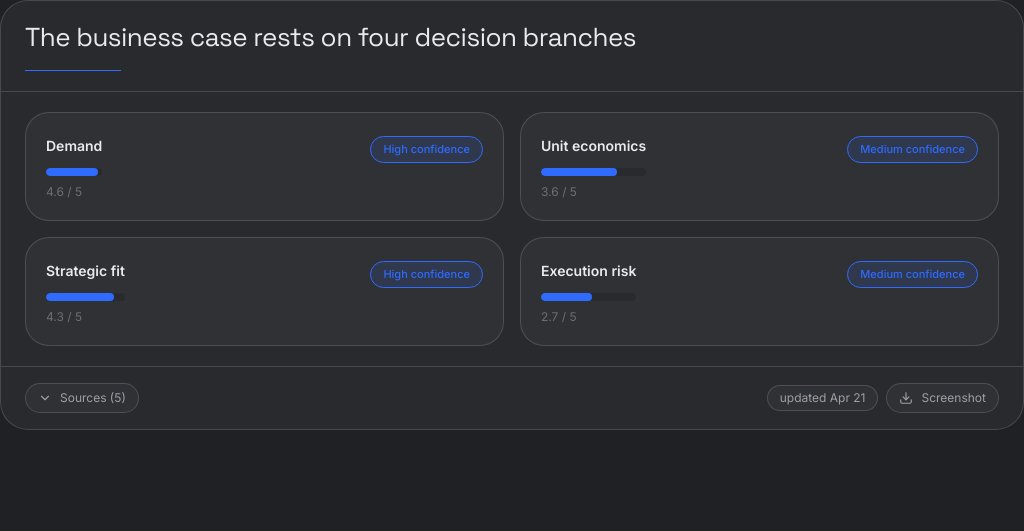
DriverTree › expands children when a branch card is opened
Click the button "Demand 4.6 / 5 High confidence" at (74, 145), box top-left (46, 136), bottom-right (483, 200)
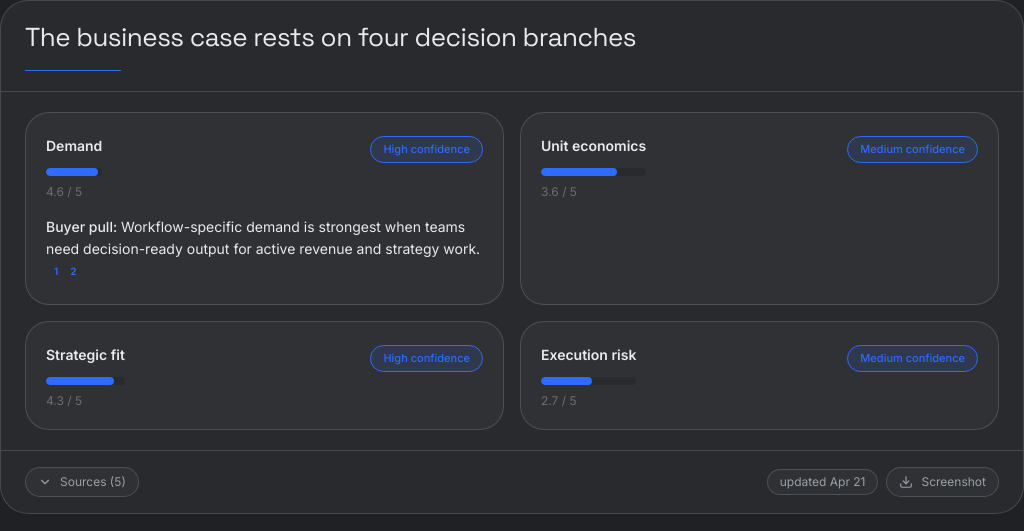
Expected: the text "Workflow-specific demand is strongest" is shown, top-left (46, 218), bottom-right (480, 257)
